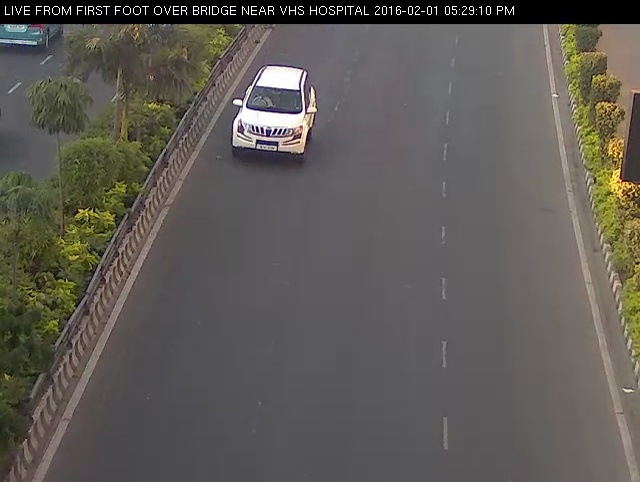Car: (222, 55, 325, 174)
